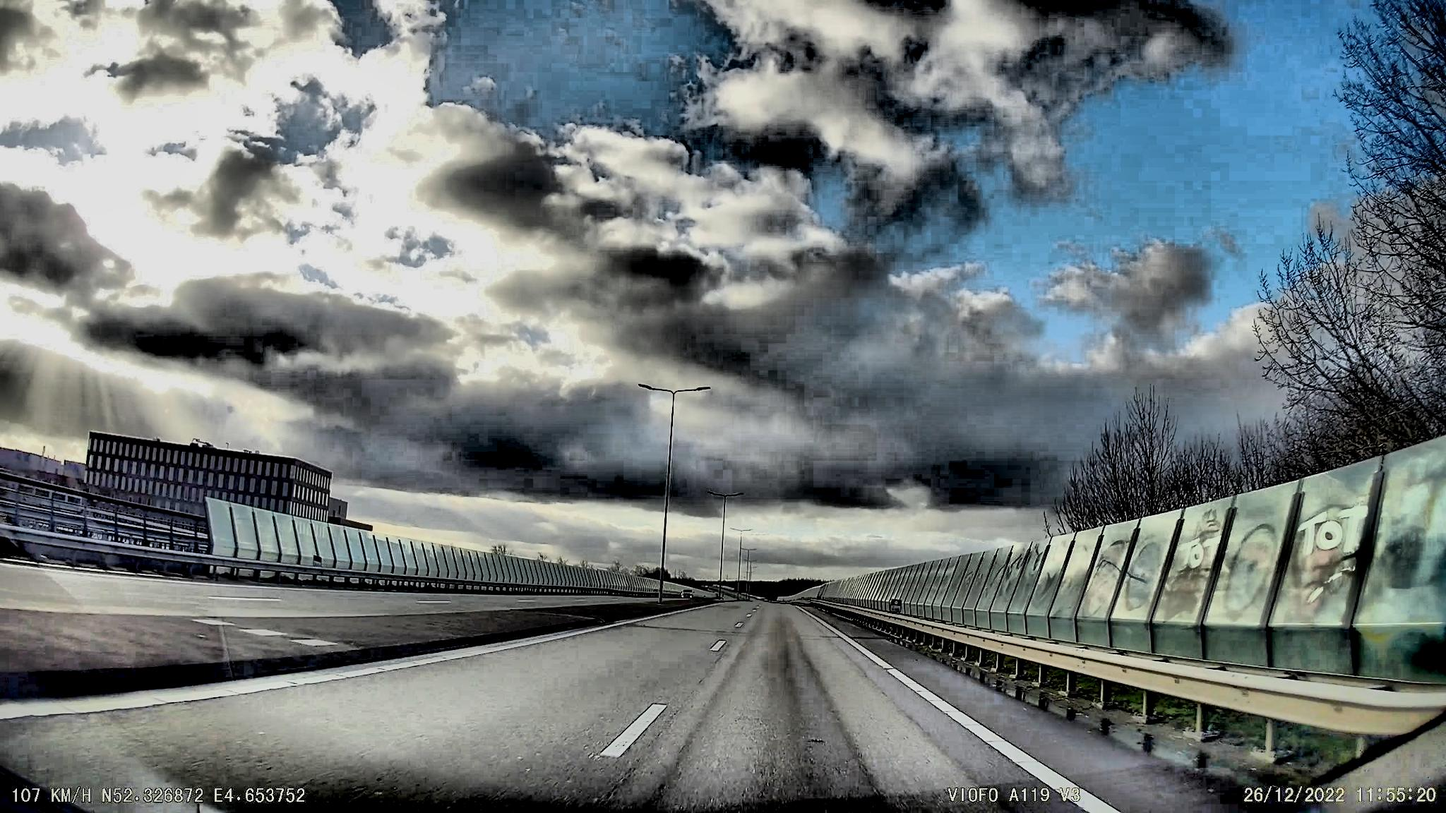Roads: (0, 600, 1250, 813)
